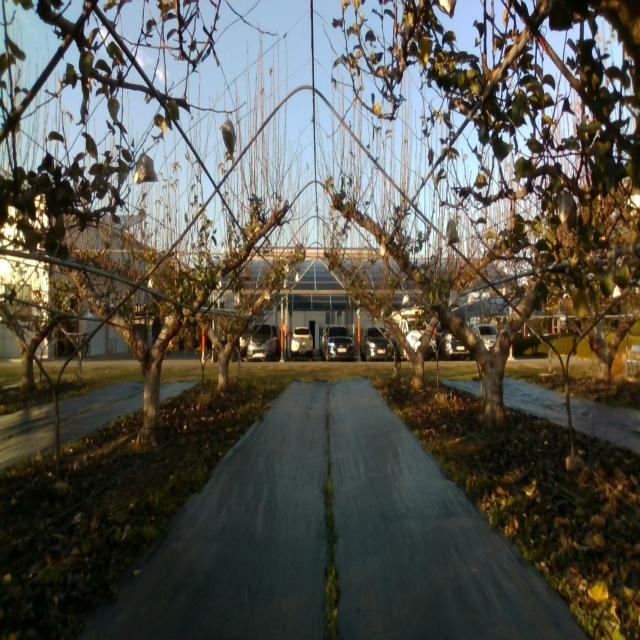pearbags: (557, 190, 576, 236), (134, 154, 159, 184), (222, 120, 235, 158), (446, 219, 460, 247), (448, 291, 462, 309)
